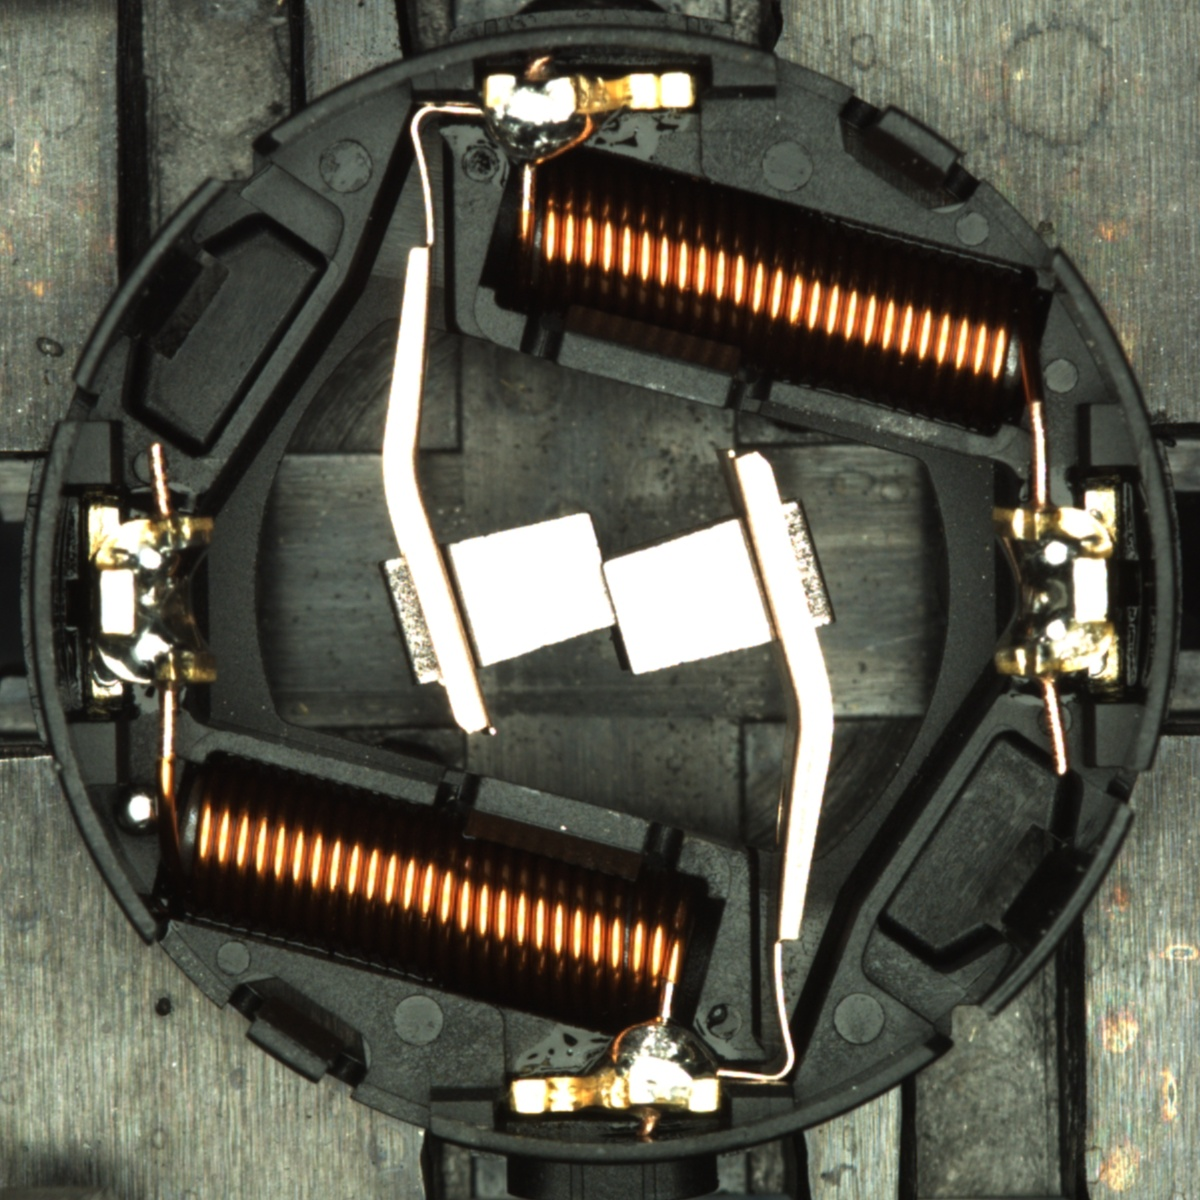1: (718, 929, 947, 1154), (259, 32, 488, 256)
2: (259, 929, 488, 1154), (718, 32, 947, 256)
3: (30, 256, 259, 480), (947, 704, 1176, 929)
4: (718, 704, 947, 929), (259, 256, 488, 480)
5: (488, 144, 718, 368), (488, 816, 718, 1041)
6: (718, 256, 947, 480), (259, 704, 488, 929)
7: (947, 256, 1176, 480)
cacbon: (402, 499, 804, 686)
chau_dien: (81, 498, 222, 701), (985, 487, 1125, 687)
hat_chi: (115, 785, 166, 835)
tay_choi: (480, 68, 700, 168), (509, 1016, 722, 1118)
thanh_de: (955, 787, 1143, 1031), (59, 164, 245, 404)
